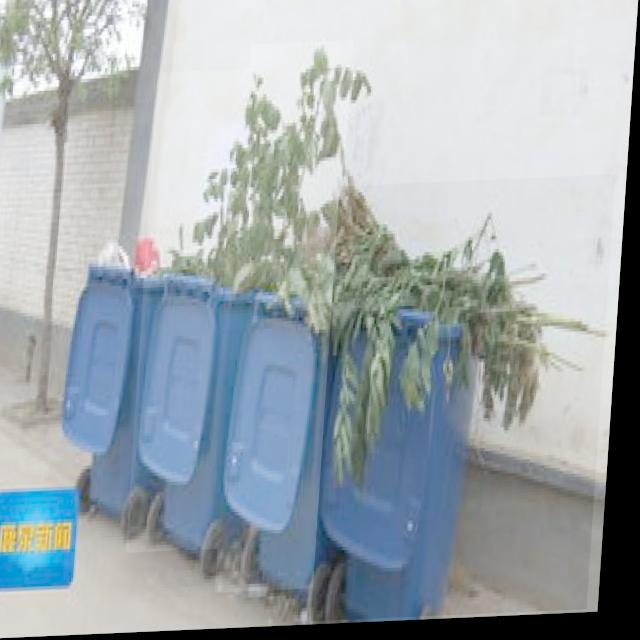overflow: (320, 180, 618, 625), (223, 44, 354, 595), (134, 70, 275, 555), (62, 232, 181, 514)
